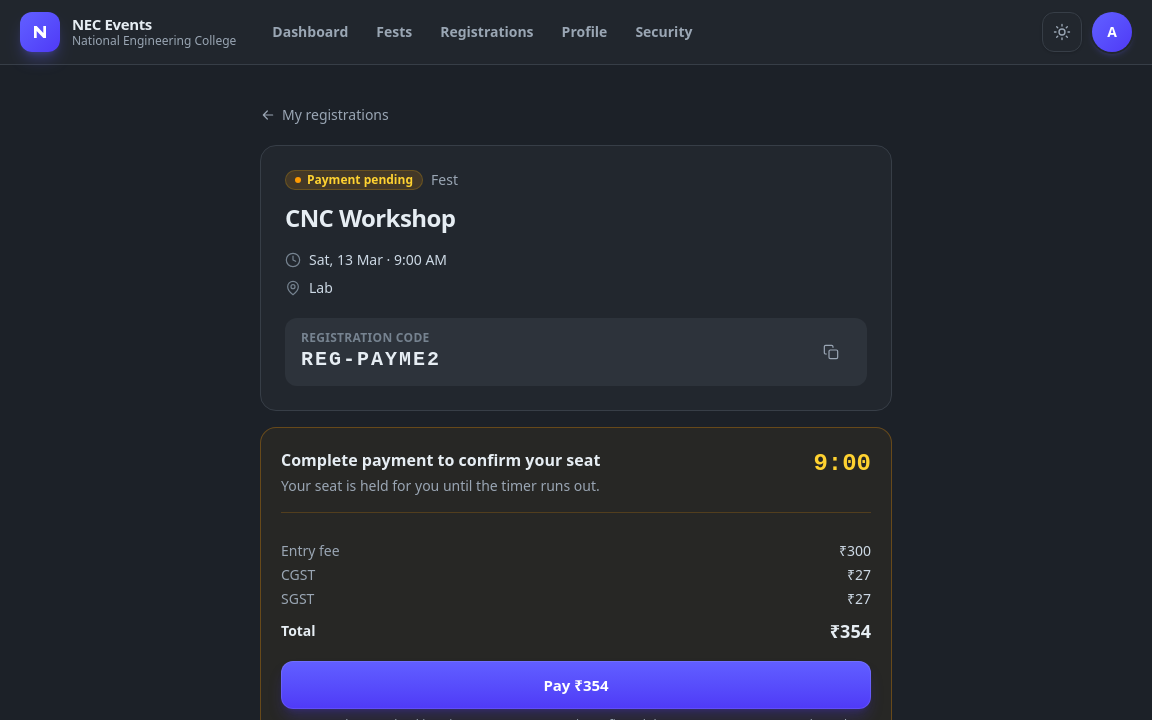
Test case: paying for a held seat › shows the countdown and breakdown; the simulated gateway pays and the page turns confirmed
Expected: the text "Complete payment to confirm your seat" is shown, x1=281 y1=448 x2=600 y2=472
Expected: the text "9:00" is shown, x1=813 y1=448 x2=871 y2=480
Click the button "Pay ₹354". click: (576, 685)
box: x1=281 y1=661 x2=871 y2=709
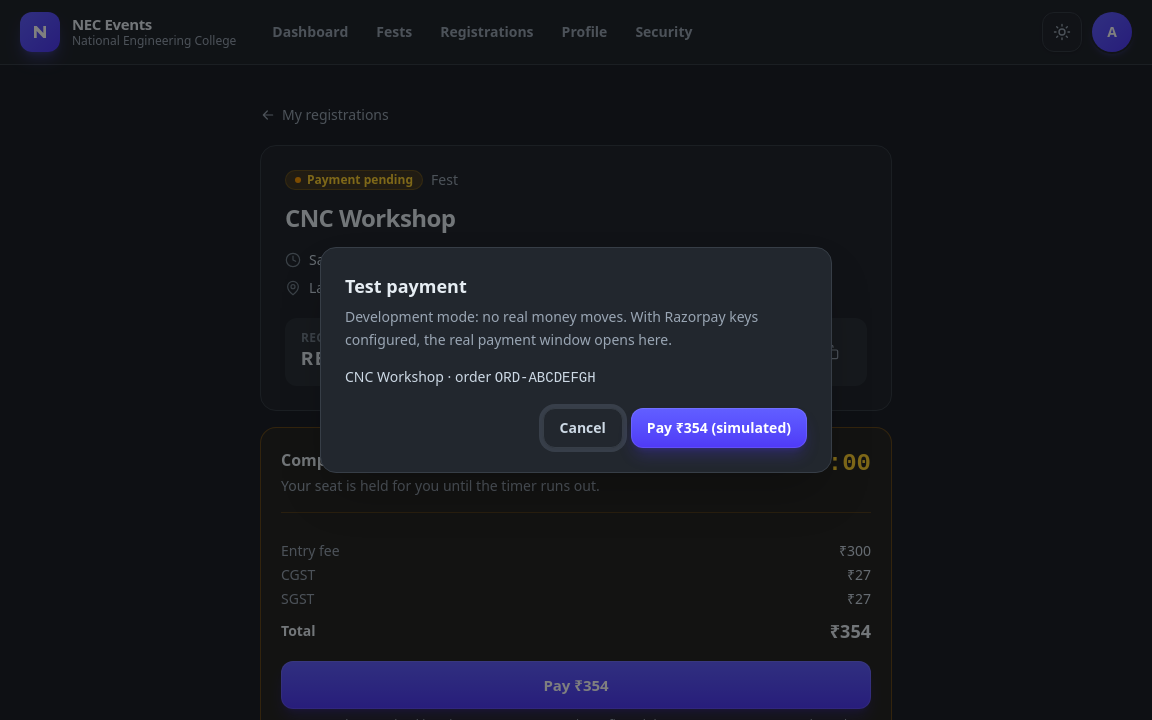
Click the button "Pay ₹354 (simulated)". click: (719, 428)
box: x1=631 y1=408 x2=807 y2=448
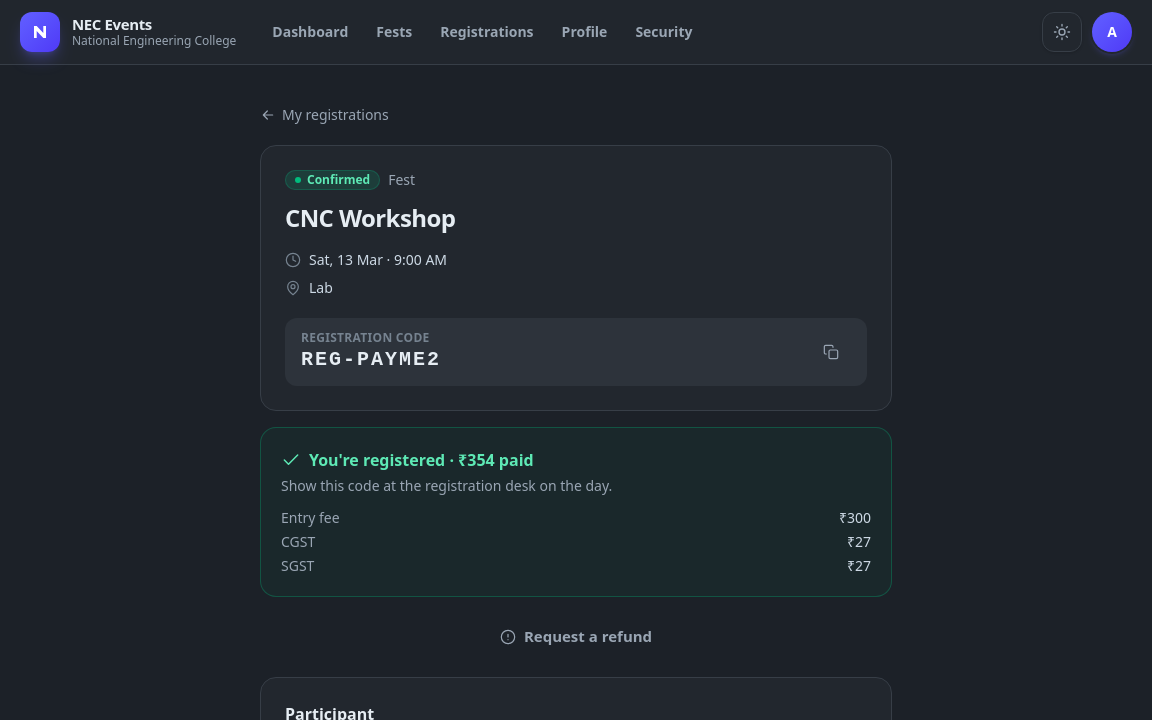
Expected: the text "You're registered · ₹354 paid" is shown, x1=281 y1=449 x2=534 y2=471
